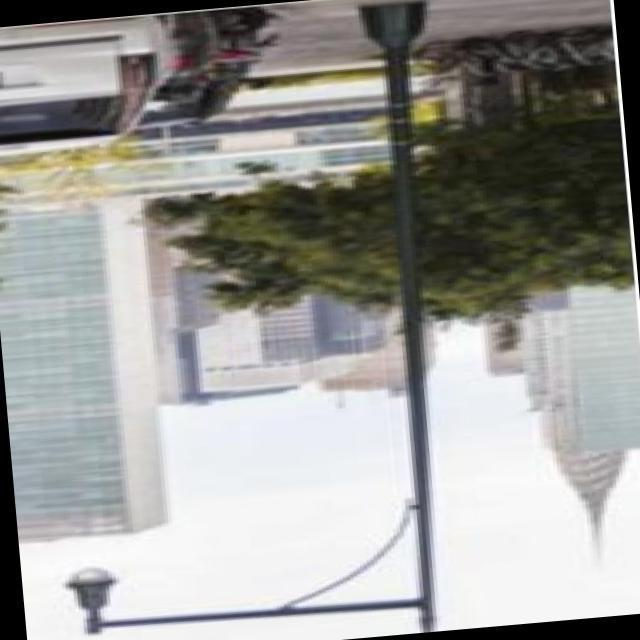off: (60, 546, 484, 640)
